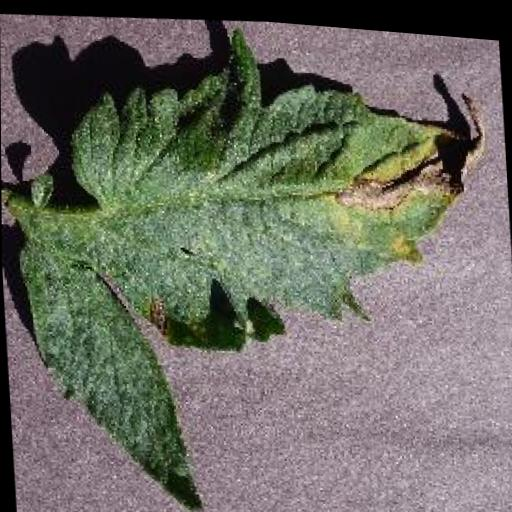Early Blight: (0, 0, 507, 512)
